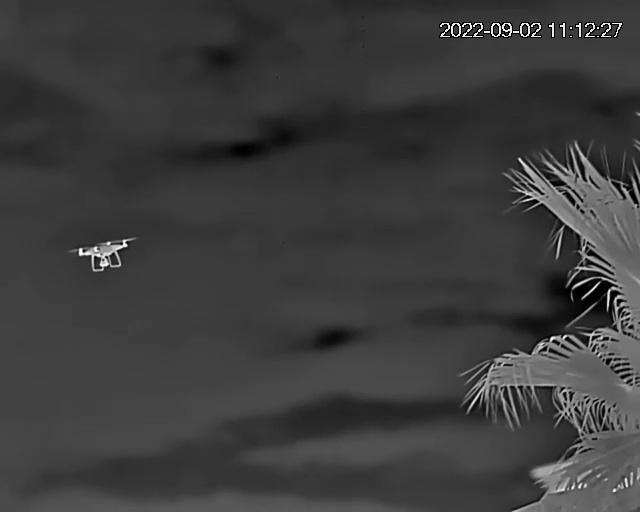DJI-Phantom: (69, 234, 139, 274)
